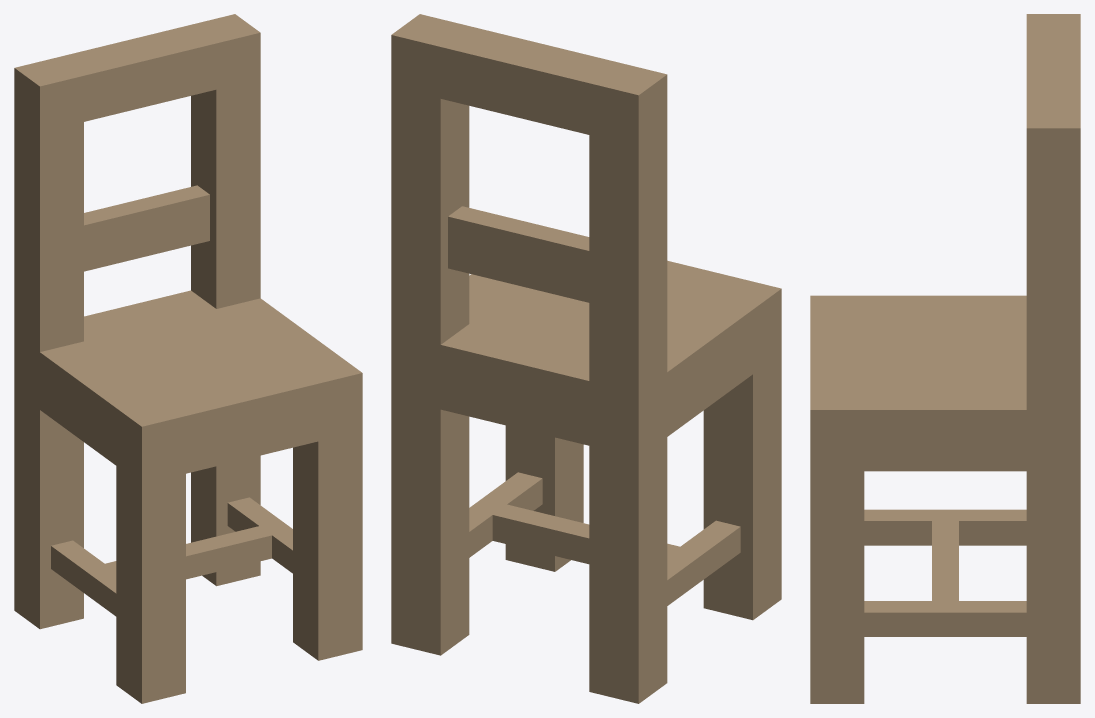
File: chair.glb
The picture shows the model from 3 angles, left to right: view 1: azimuth 30°, elevation 25°; view 2: azimuth 150°, elevation 25°; view 3: azimuth 270°, elevation 25°; orthographic projection. The views are drawn at different scales.
Visible parts, largest first — view 1: chair(Clone); view 2: chair(Clone); view 3: chair(Clone).
Boxes of the visible parts, <box> form: chair(Clone): <box>14,14,362,703</box>; chair(Clone): <box>391,14,781,703</box>; chair(Clone): <box>810,14,1080,703</box>.
Size of the model in its own units: 0.2 by 0.47 by 0.2.
